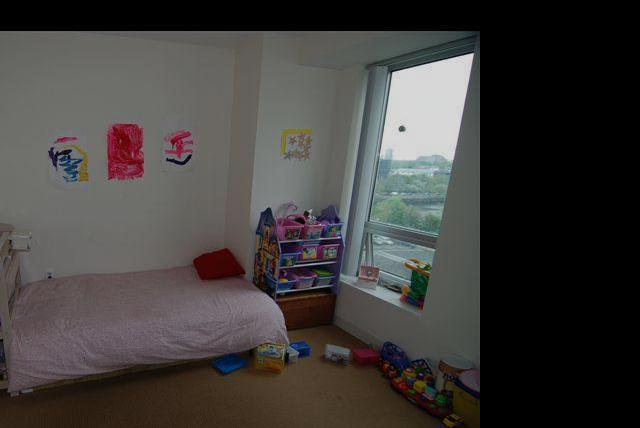Otro Obstaculo: (375, 339, 463, 424), (326, 334, 381, 370), (254, 340, 290, 380), (214, 352, 249, 379)
